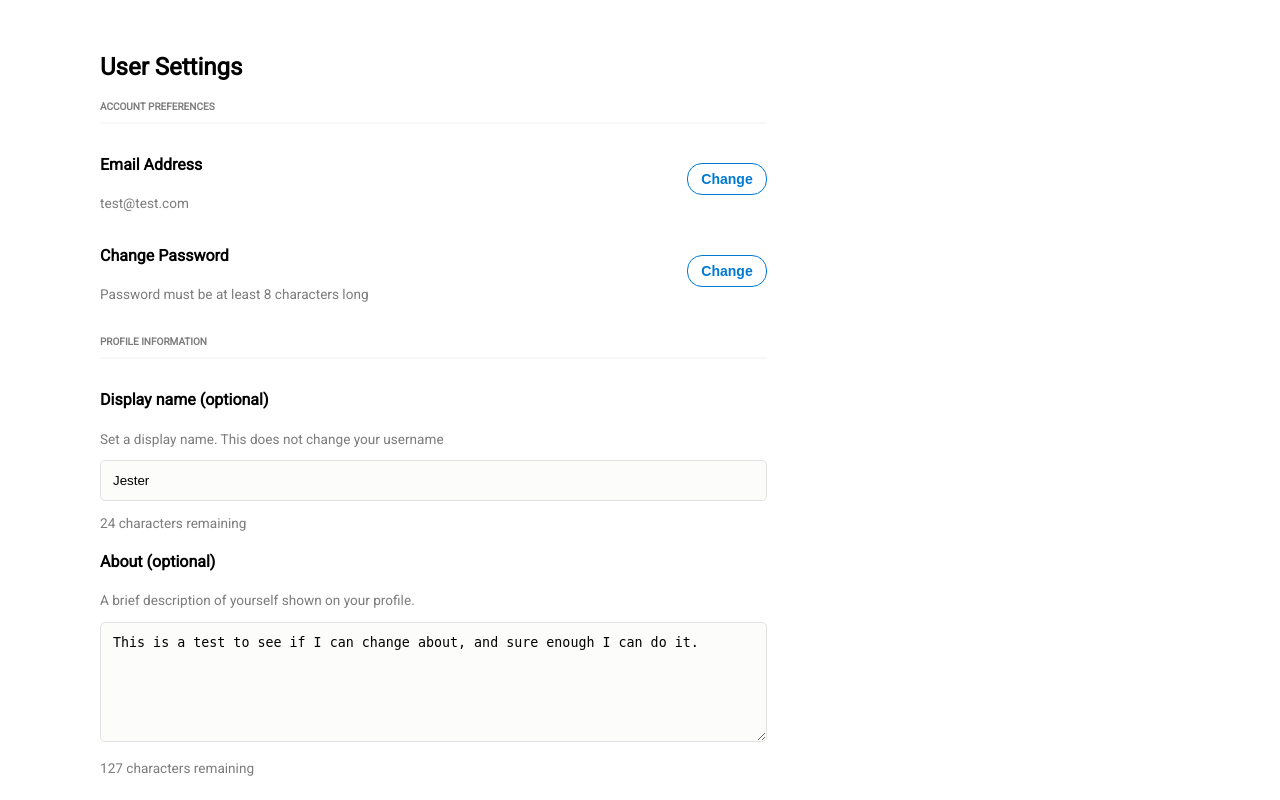
Scenario: Settings › Authenticated user can change their email › Password is validated
Click the button with test id "change-email-btn" at [727, 179], box [687,163,767,195]
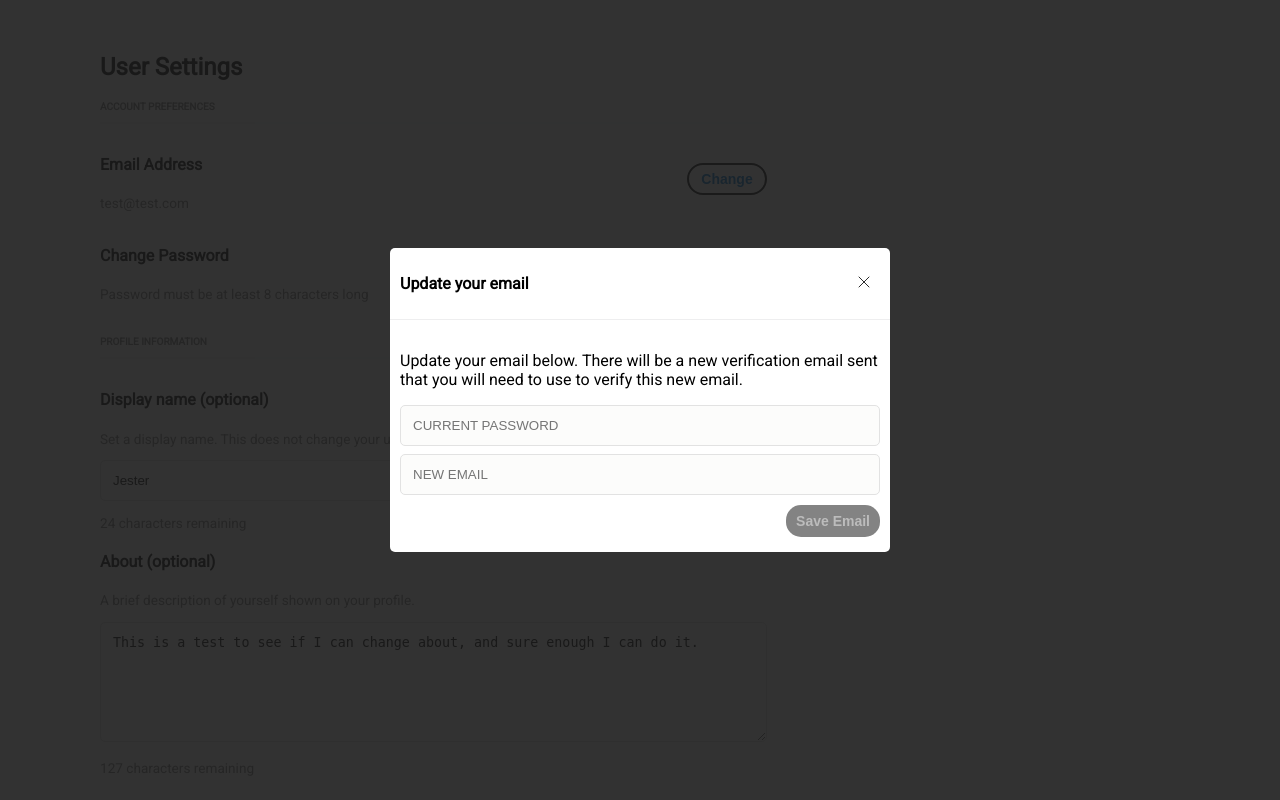
Type "1234" into the password field with placeholder "CURRENT PASSWORD" at [640, 426], box [400,405,880,446]
Type "test@test.org" into the field with placeholder "NEW EMAIL" at [640, 475], box [400,454,880,495]
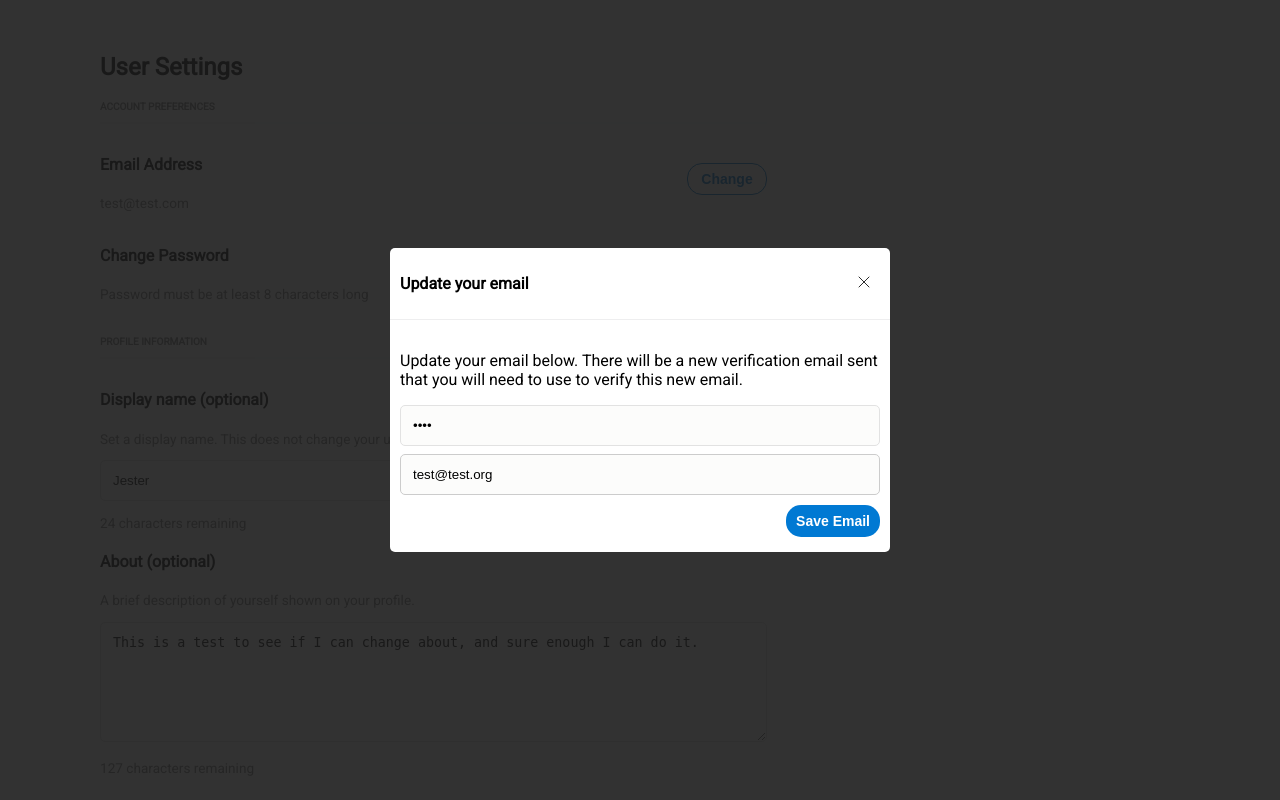
Click the button "Save Email" at [833, 521], box [786,505,880,537]
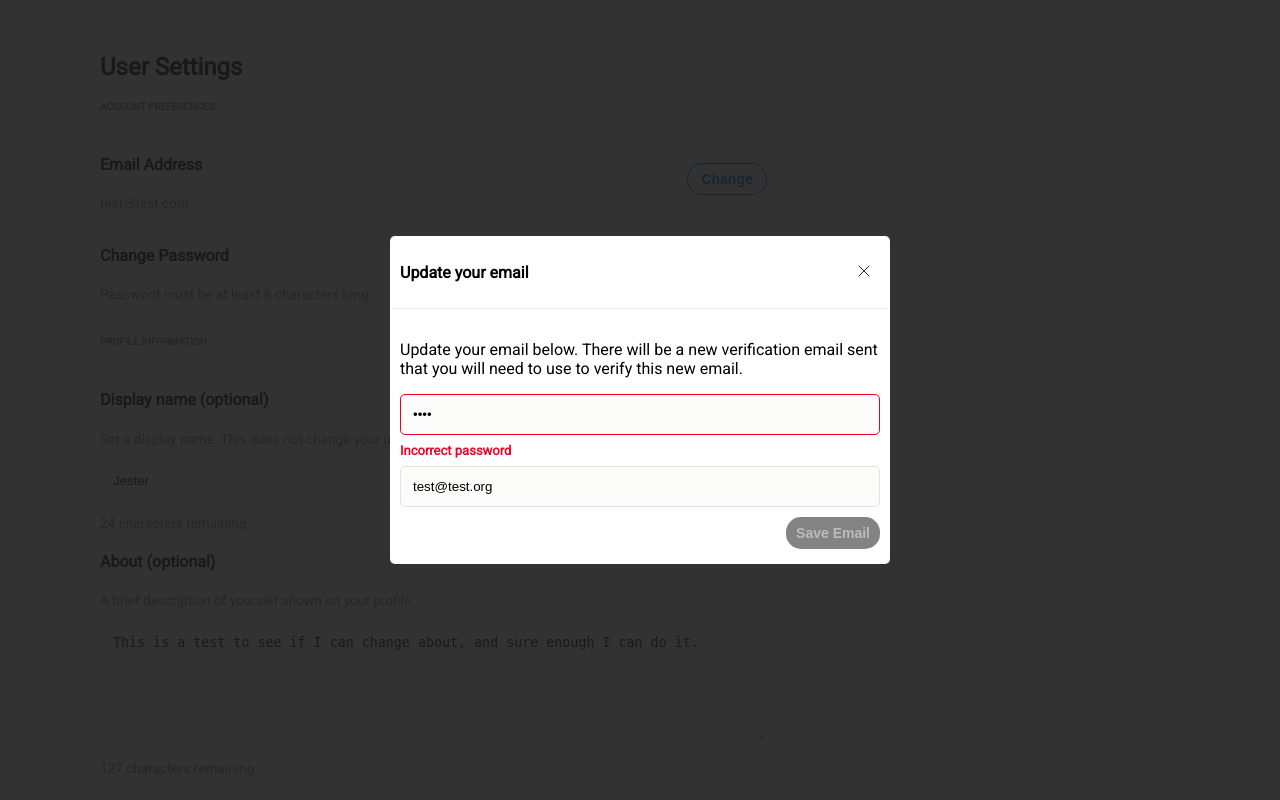
Check: the button "Save Email" is disabled, box [786,517,880,549]
Clear the password field with placeholder "CURRENT PASSWORD" at [640, 414], box [400,394,880,435]
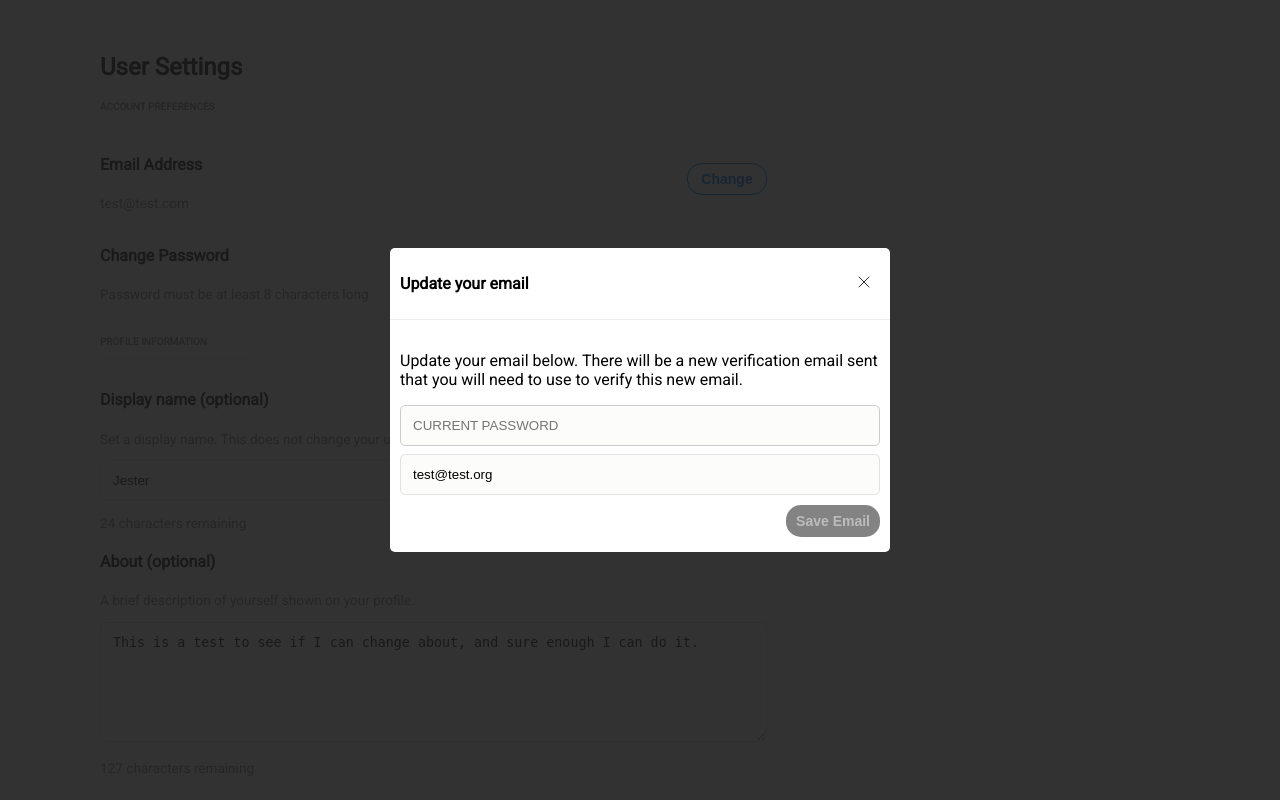
Type "12345" into the password field with placeholder "CURRENT PASSWORD" at [640, 426], box [400,405,880,446]
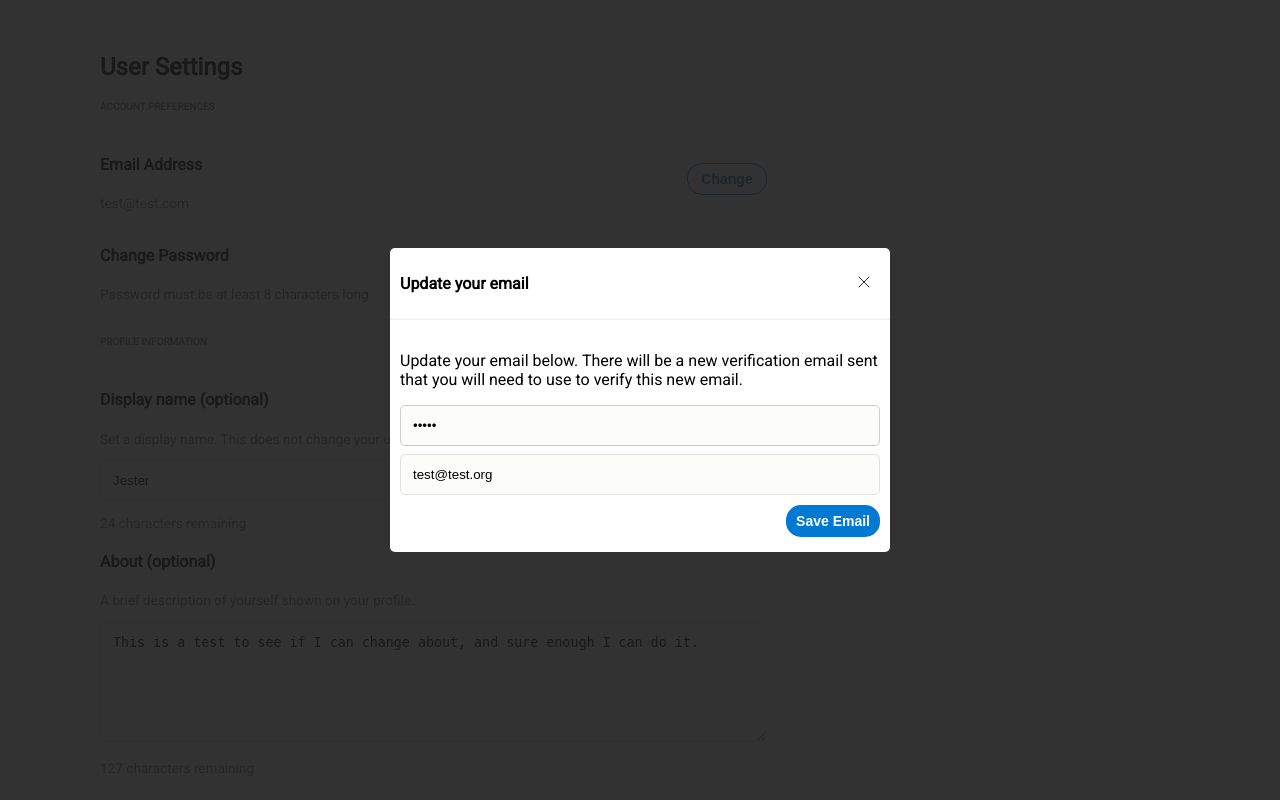
Click the button "Save Email" at [833, 521], box [786,505,880,537]
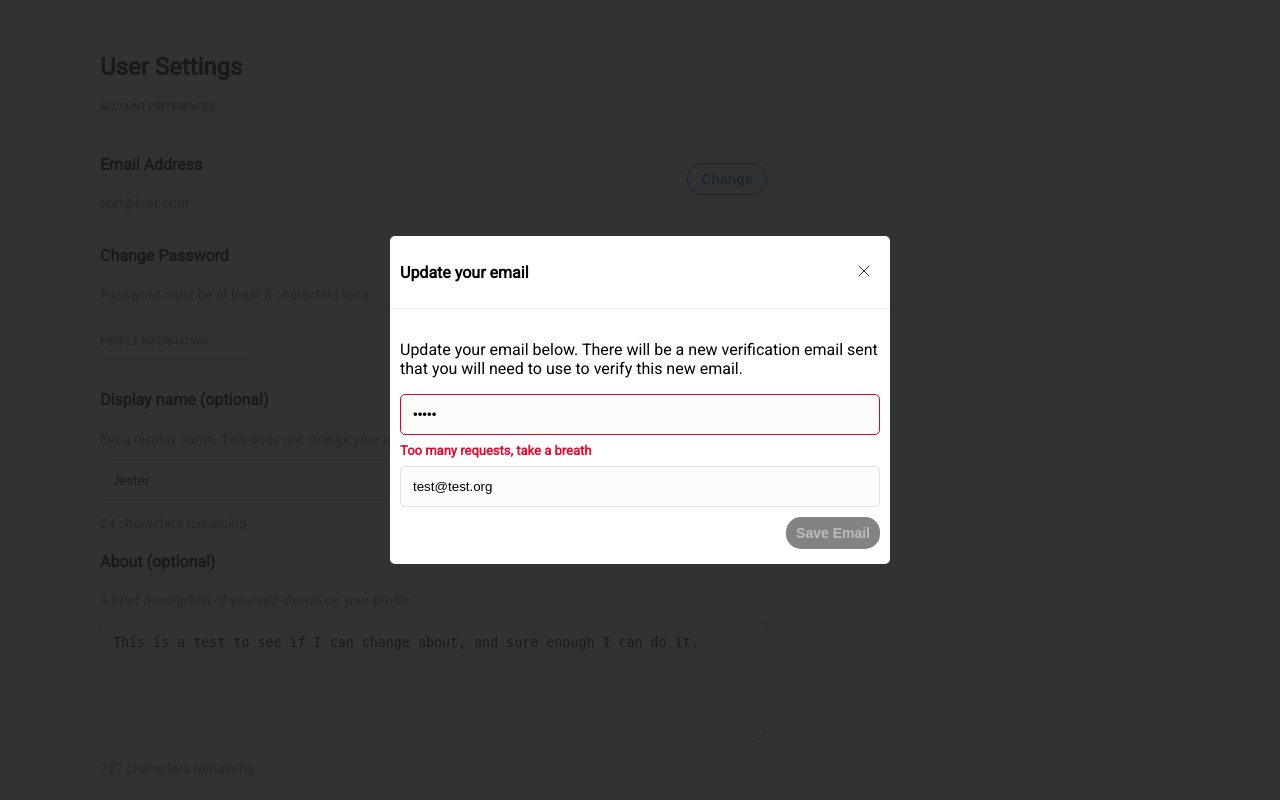
Check: the button "Save Email" is disabled, box [786,517,880,549]
